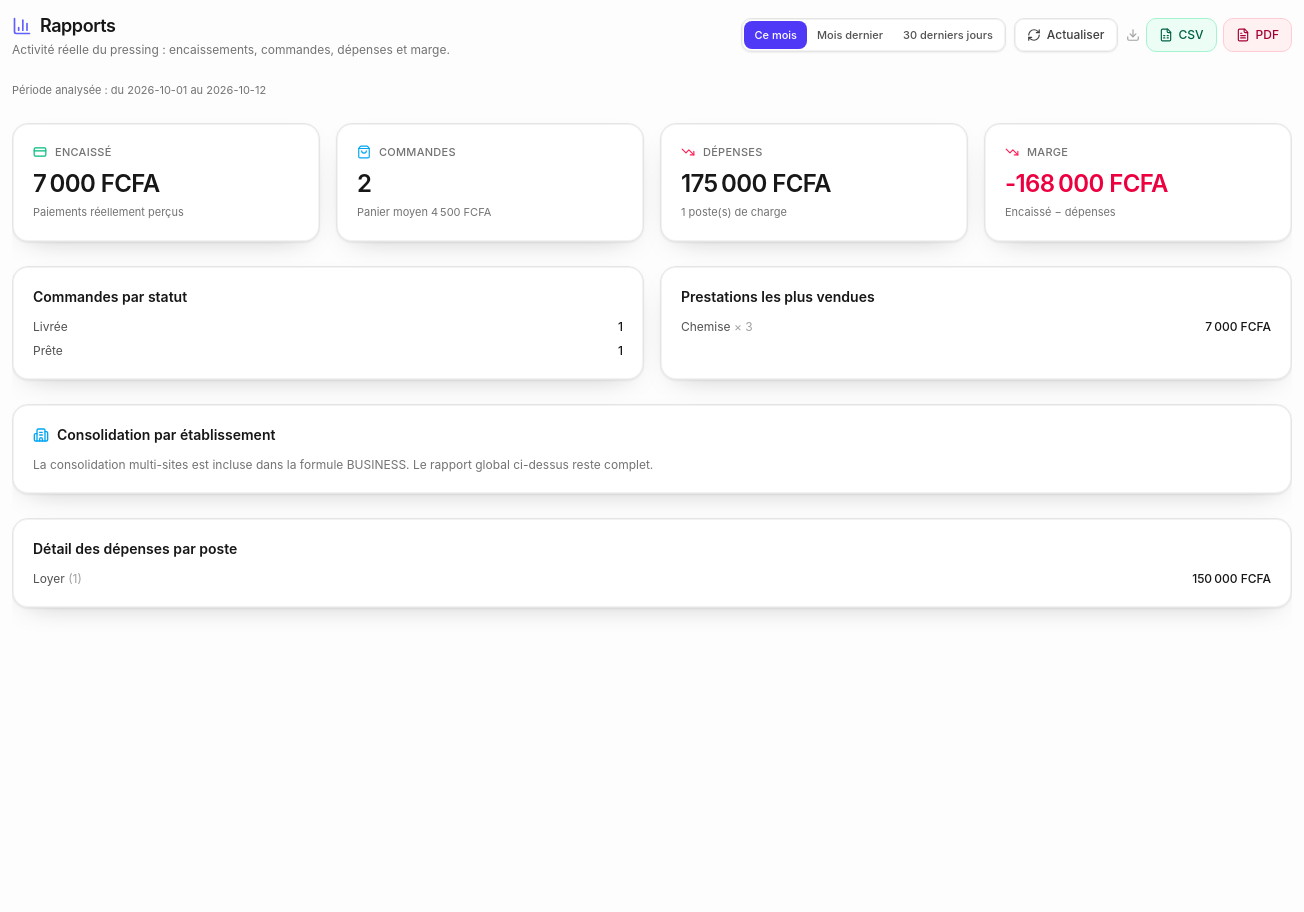
Test: ReportsView › explique qu’un export impossible n’est pas réservé à la formule payante
This screenshot has width=1304, height=912.
Click the button "CSV": (1181,35) [1146,18,1217,52]
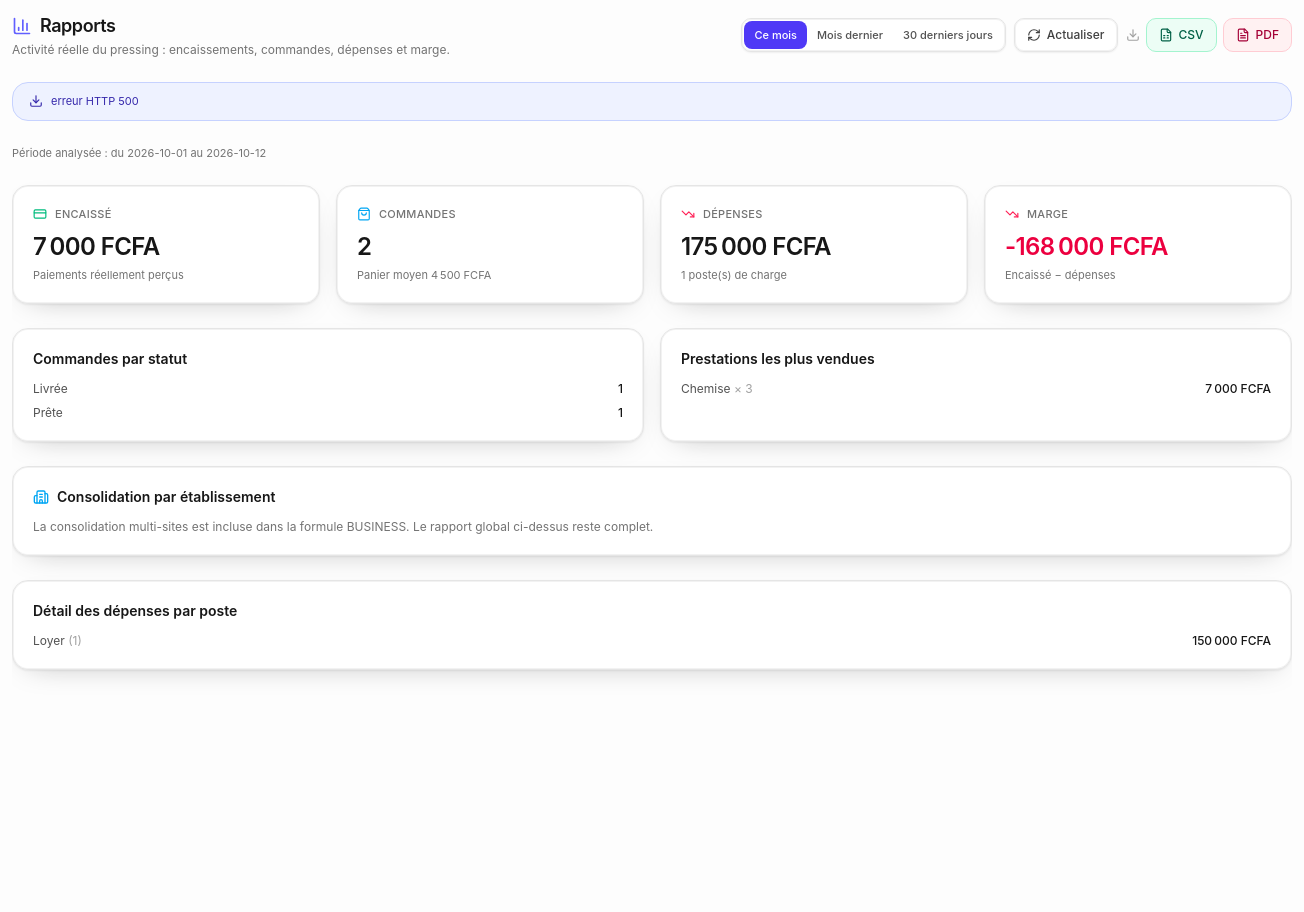
Expected: the message reads "erreur HTTP 500", [51,94,139,108]
